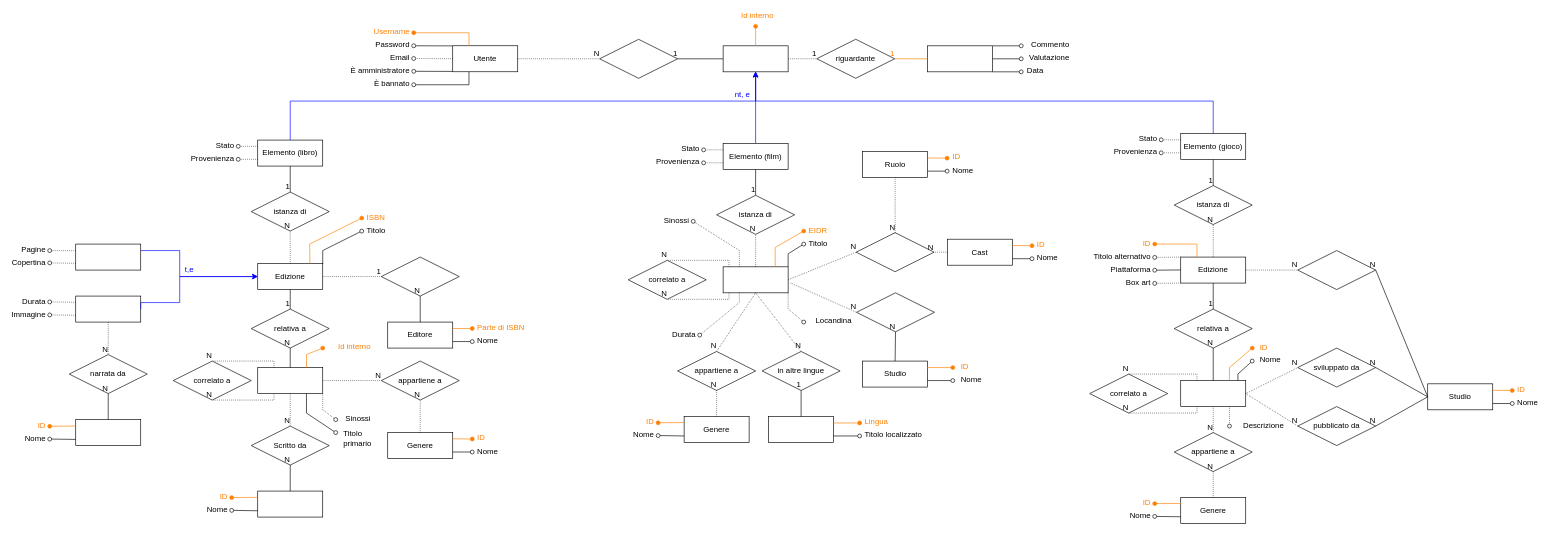
Some shapes in this 1550 by 535 pixel diagram are drawn without their labels. Here are the shapes that lost their labels. From the top down, the centre of each, then its label:
the point at 638,58: possiede
the point at 755,58: Elemento
the point at 960,58: Recensione
the point at 108,256: Edizione (libro)
the point at 894,252: vi ha preso parte
the point at 1336,270: portato da
the point at 420,276: pubblicata da
the point at 755,279: Film
the point at 108,308: Edizione (audiolibro)
the point at 895,312: prodotto da
the point at 290,380: Libro
the point at 1213,393: Gioco
the point at 108,432: Narratore
the point at 801,429: Localizzazione
the point at 290,503: Autore
